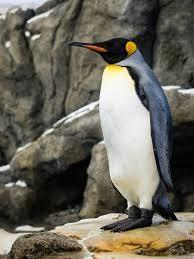king: (59, 25, 182, 239)
